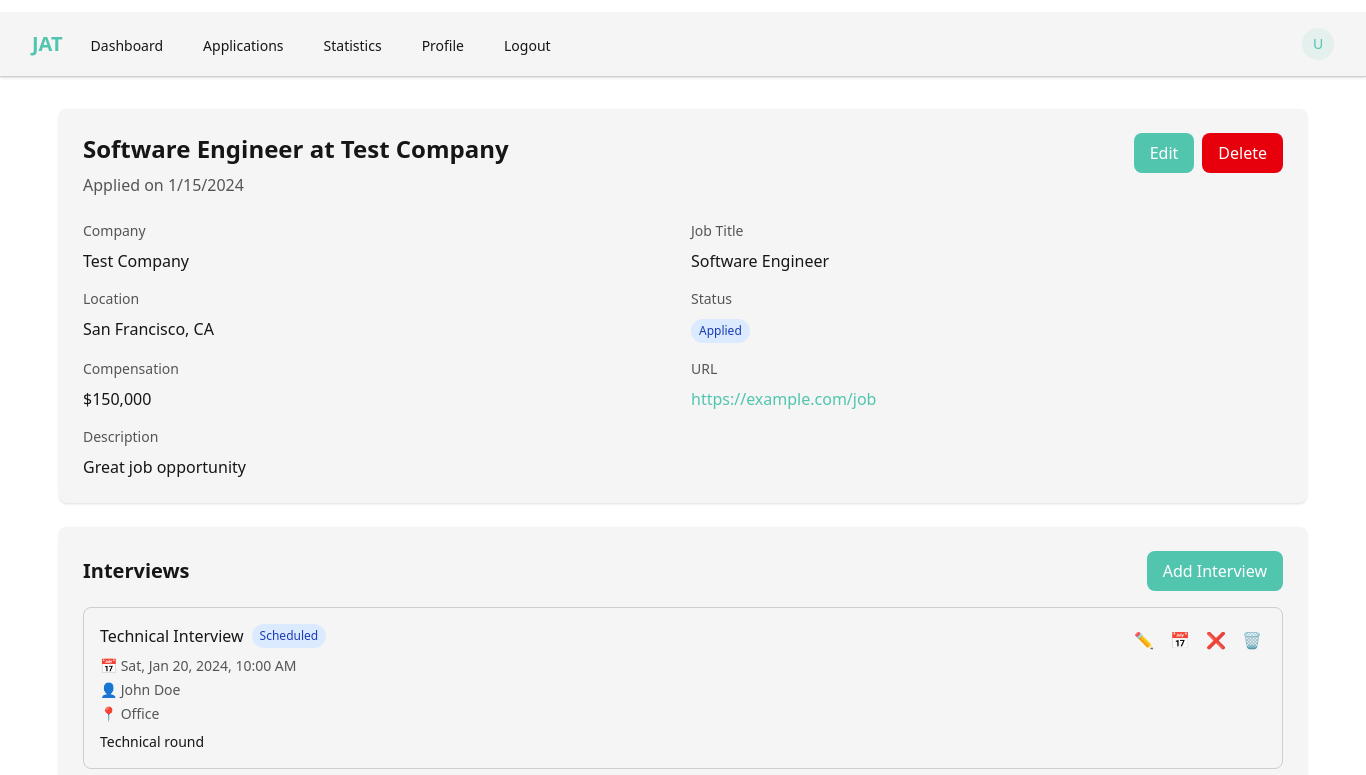
ApplicationDetail Component › Edit Application › should save application changes when save button is clicked
Expected: the text "Software Engineer" is shown, [691, 250, 829, 272]
Click the button "Edit": (1164, 153) [1134, 133, 1194, 173]
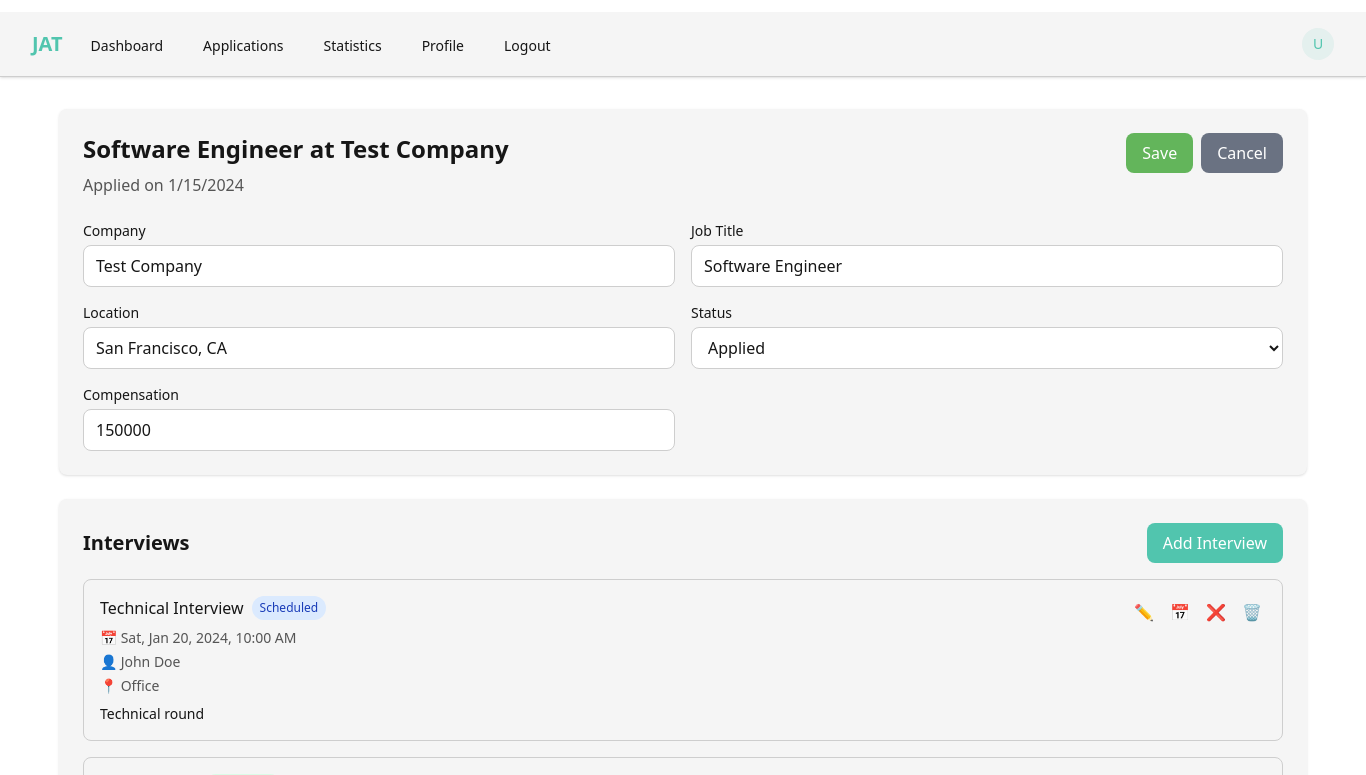
Replace the text in the field showing "Software Engineer" below "Job Title" with "Senior Software Engineer": (987, 266) [691, 245, 1283, 287]
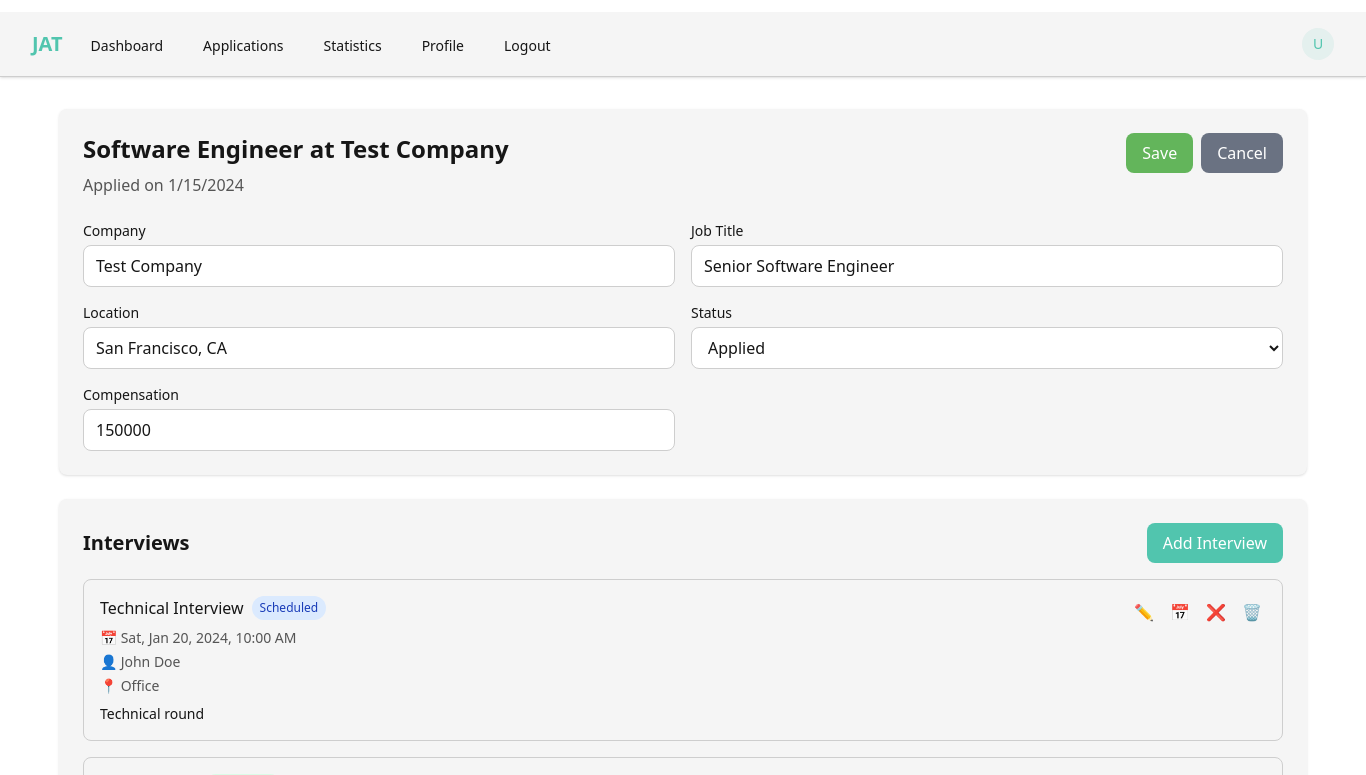
Click the button "Save": (1160, 153) [1126, 133, 1193, 173]
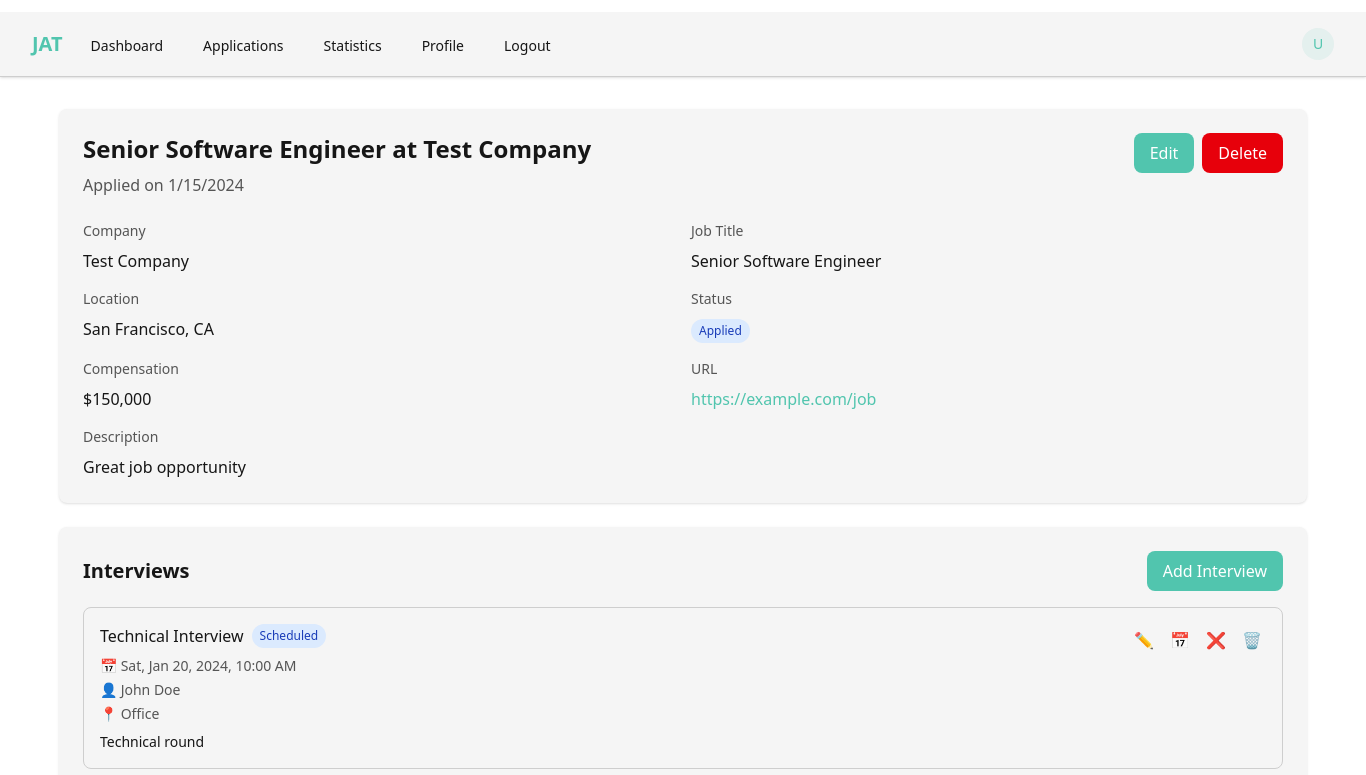
Now the text "Senior Software Engineer" is shown, box [691, 250, 881, 272]
